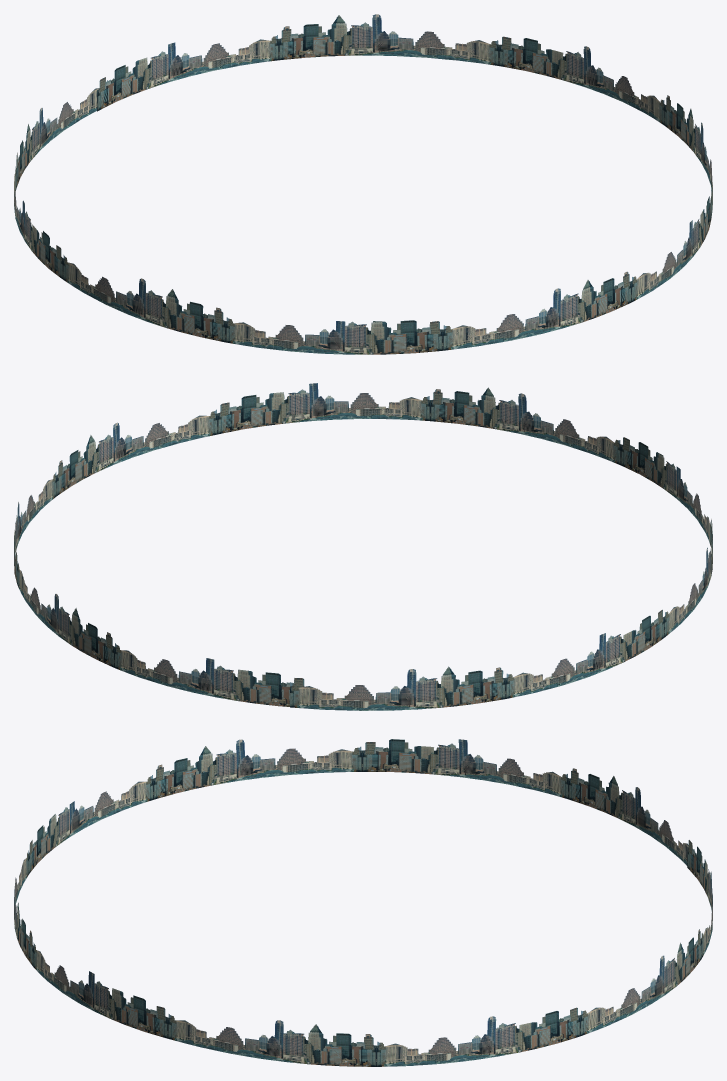
Rendered from Austin_track_building_wall.dae.
The picture shows the model from 3 angles, top to bottom: view 1: azimuth 30°, elevation 25°; view 2: azimuth 150°, elevation 25°; view 3: azimuth 270°, elevation 25°; orthographic projection.
Visible parts, largest first — view 1: Austin_track_building_wall; view 2: Austin_track_building_wall; view 3: Austin_track_building_wall.
Boxes of the visible parts, x1=… form: Austin_track_building_wall: x1=14, y1=14, x2=712, y2=354; Austin_track_building_wall: x1=14, y1=383, x2=712, y2=710; Austin_track_building_wall: x1=14, y1=739, x2=712, y2=1066.
Bounding box in the file's own units: 102 × 102 × 6.61.
Materials: 1 (1 with a texture image).
